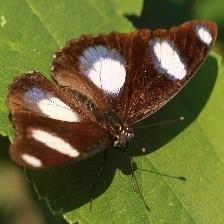butterfly: (7, 20, 217, 168)
